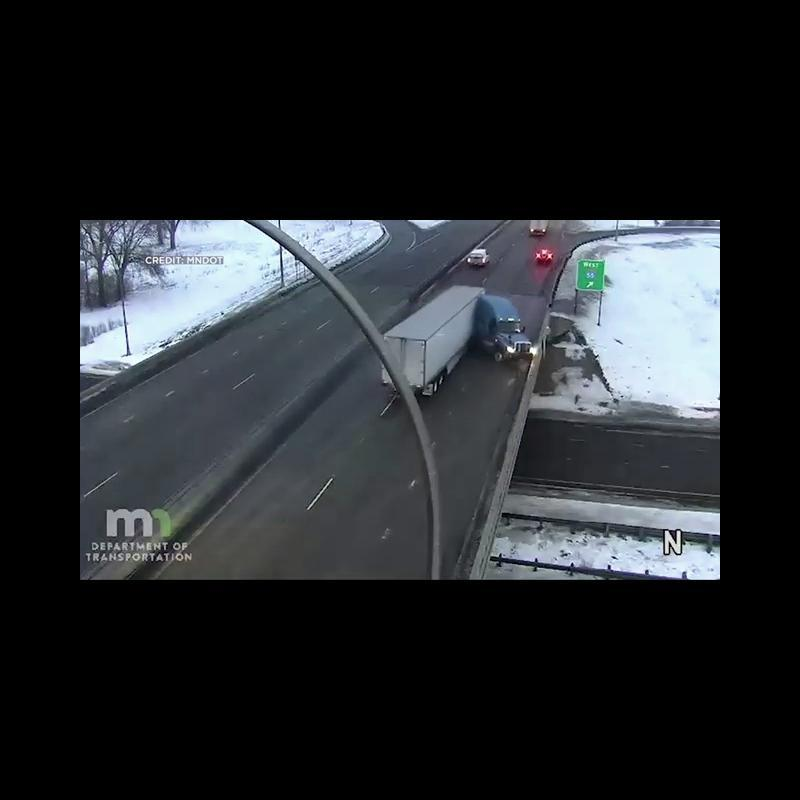car: (466, 248, 490, 266), (536, 244, 554, 266), (529, 220, 548, 237)
truck: (382, 287, 534, 388)
